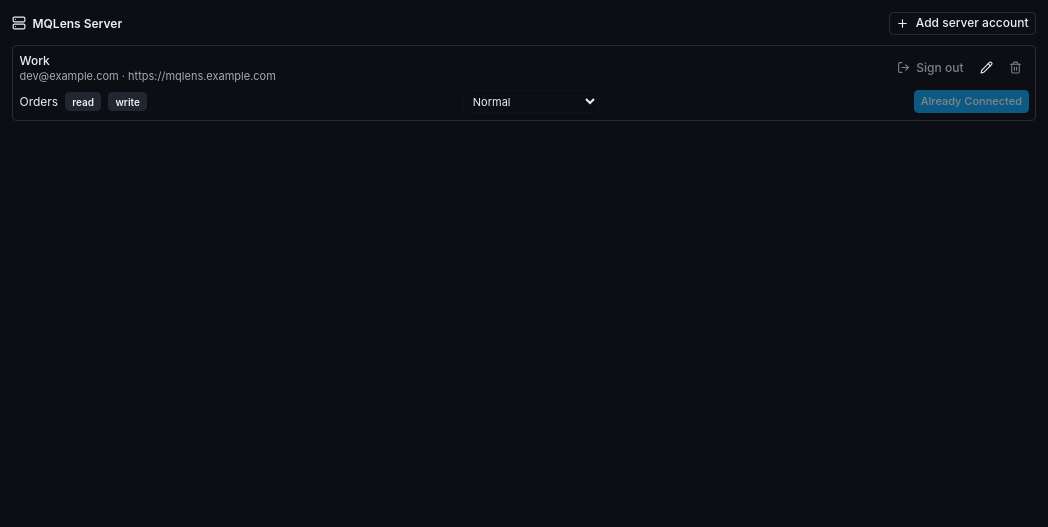
Test: ServerAccountsPanel › keeps the server identity fixed while its connections are open, but not the name
Click the button named "Edit Work". click: (986, 68)
box: [973,55,999,81]
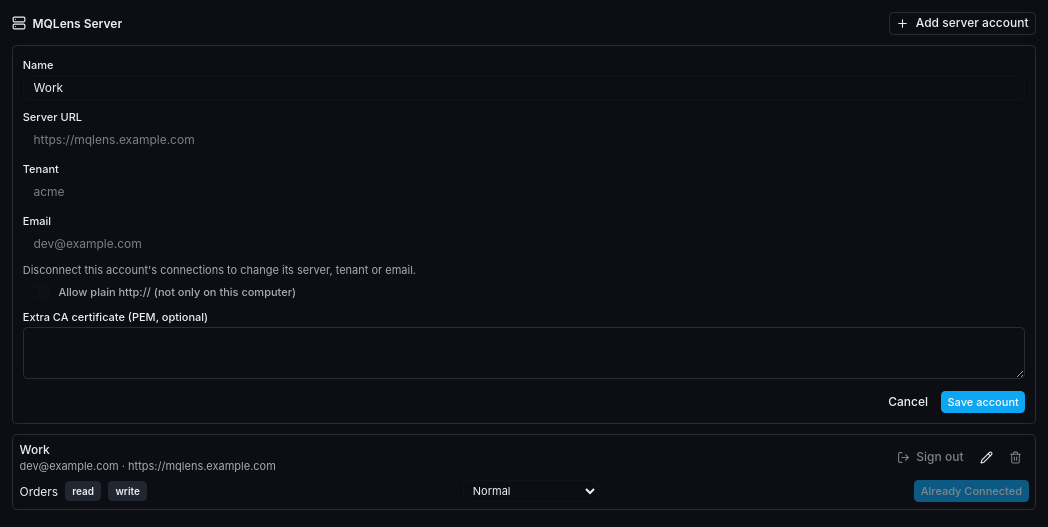
Result: the field labelled "Server URL" is disabled at [23,127,1025,153]
Result: the field labelled "Tenant" is disabled at [23,179,1025,205]
Result: the field labelled "Email" is disabled at [23,231,1025,257]
